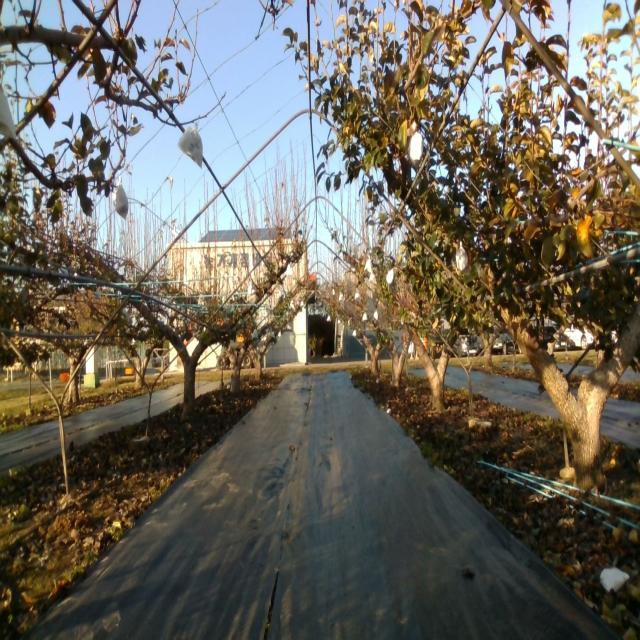pearbags: (176, 121, 204, 167), (113, 177, 129, 219), (408, 130, 423, 168), (453, 245, 469, 275)
